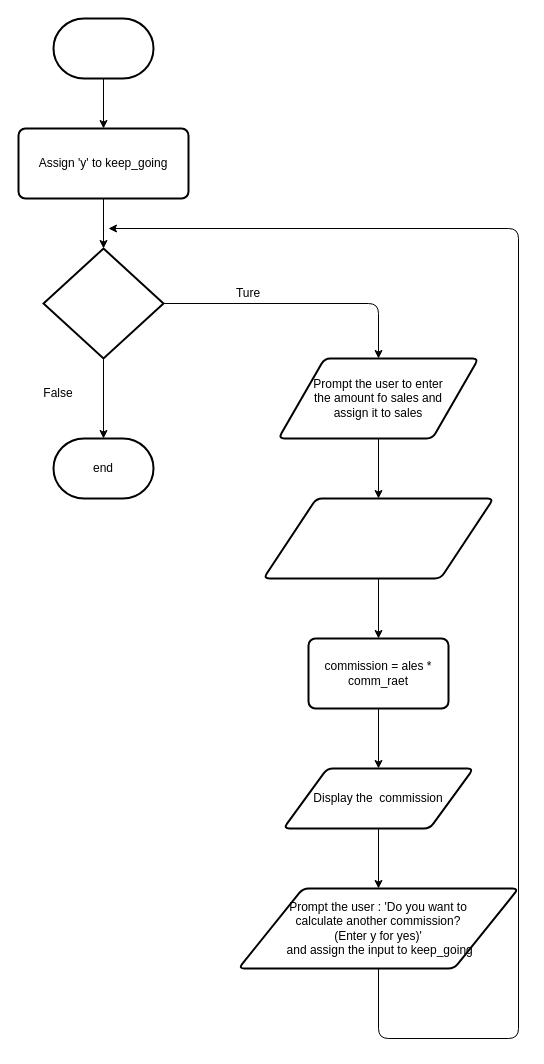
This 544x1064 diagram has some shape labels left out. The shapes that lost their labels are listed below. From the top down, each one's centre as x and y in pixels, then its label:
At [103,48]: "start".
At [103,303]: "keep_going == 'y'".
At [378,538]: "Prompt the user to enter the commission rate and assign it to sales comm_raet".
